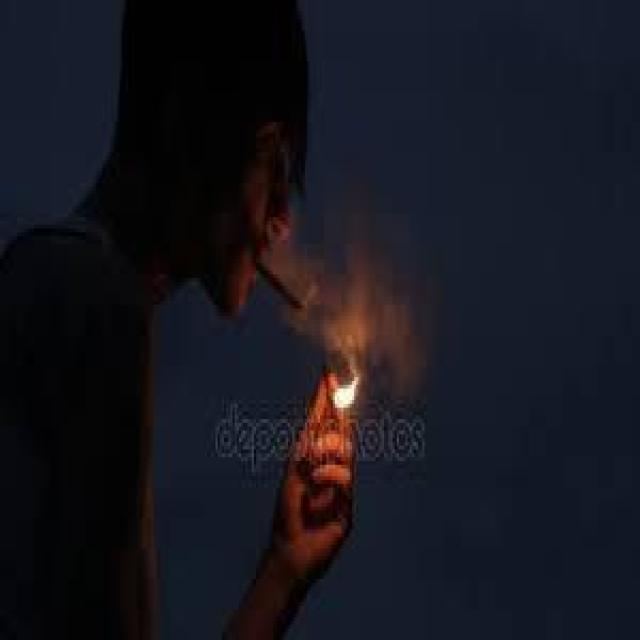fire: (326, 362, 372, 418)
